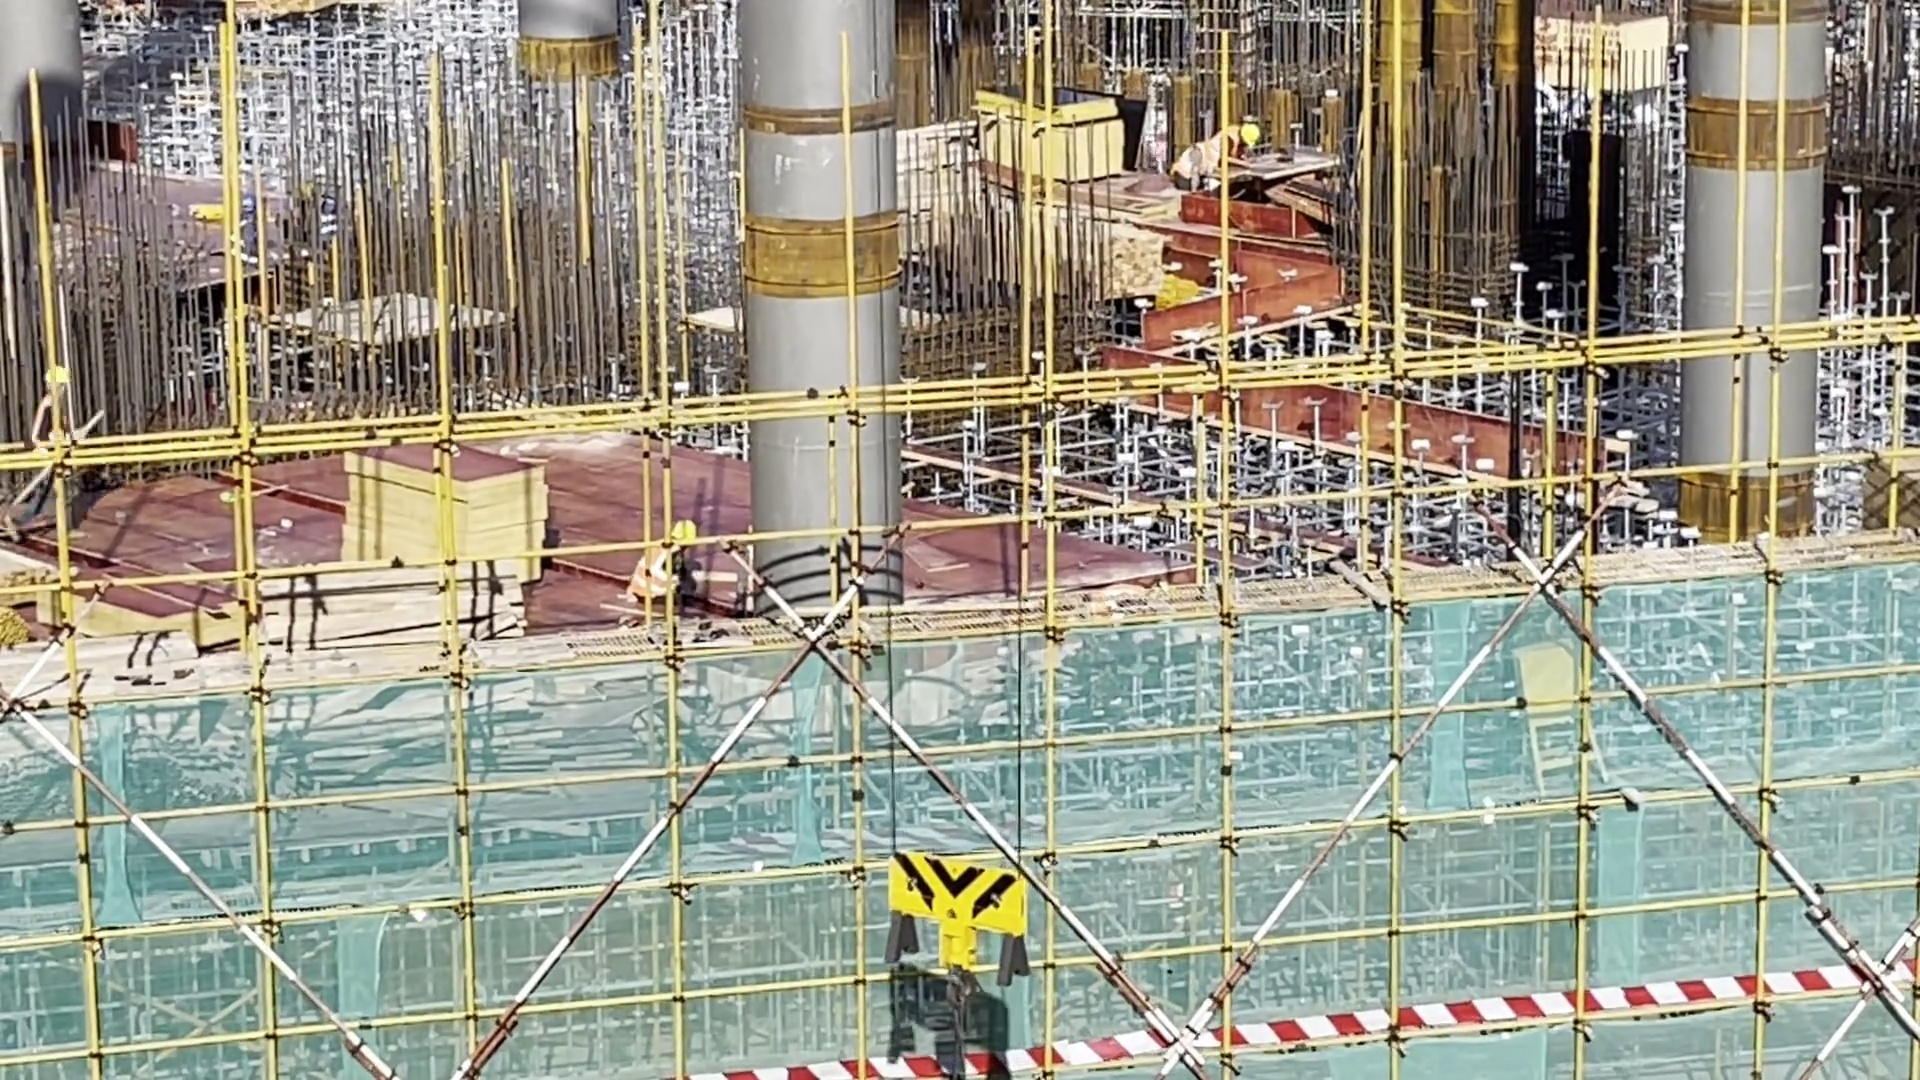board: (335, 447, 558, 585)
hook: (883, 856, 1035, 1001)
person: (633, 518, 711, 618), (1179, 112, 1266, 181)
vest: (633, 538, 681, 595)
wood: (1842, 443, 1920, 532)
